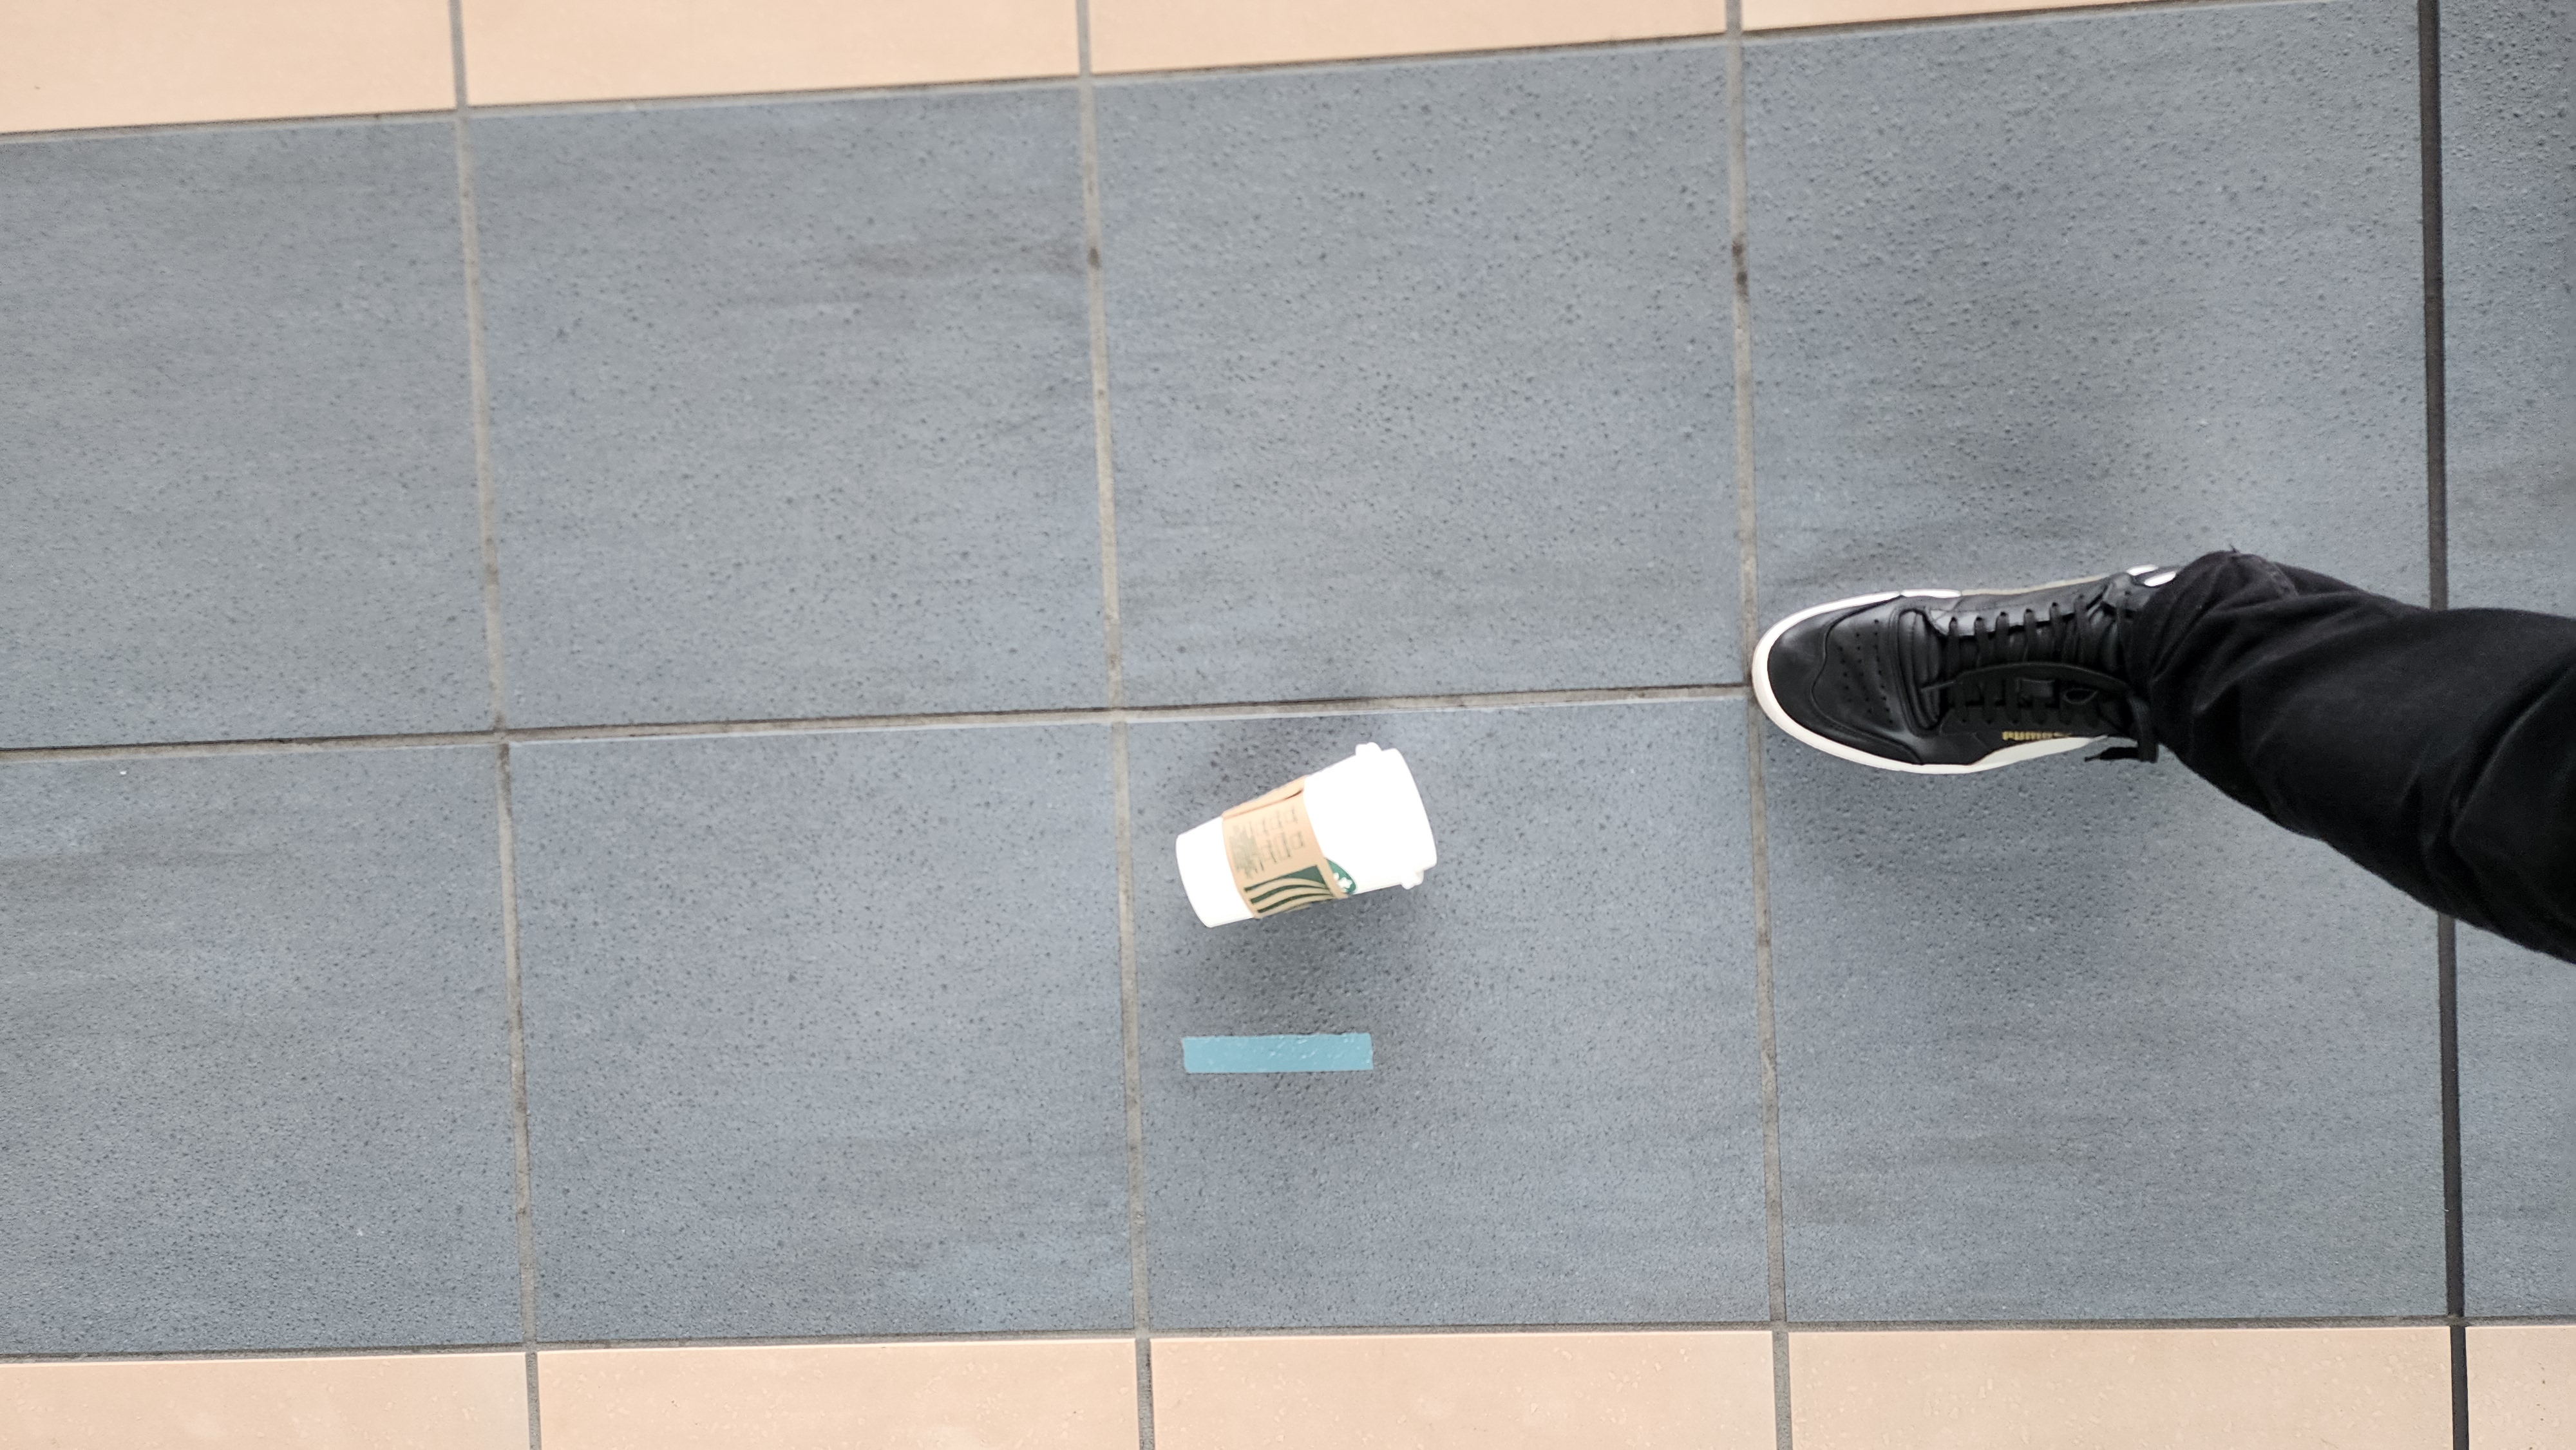Garbage: (1122, 723, 1458, 988), (1157, 1019, 1433, 1125)
Stain: (830, 221, 1125, 295), (1695, 221, 1808, 334), (456, 697, 557, 813)
